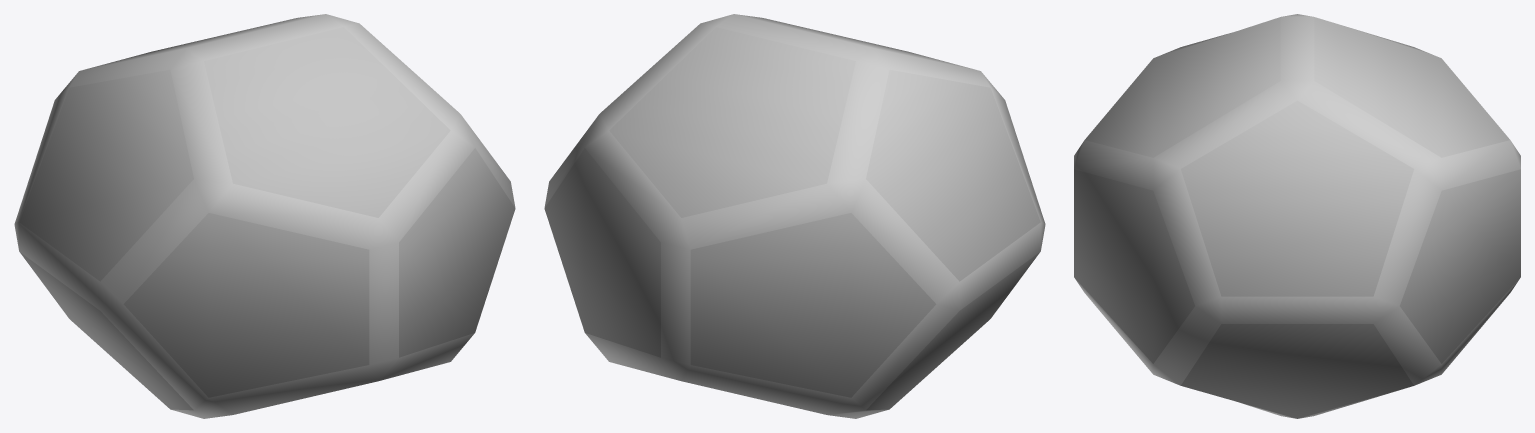
Rendered from stone_3.fbx.
3 views of the same model, side by side, from view 1: azimuth 30°, elevation 25°; view 2: azimuth 150°, elevation 25°; view 3: azimuth 270°, elevation 25° (orthographic). The views are drawn at different scales.
Visible parts, largest first — view 1: stone_3; view 2: stone_3; view 3: stone_3.
Part boxes in pixels (<box>): stone_3: <box>14,14,515,418</box>; stone_3: <box>544,14,1045,418</box>; stone_3: <box>1074,14,1520,418</box>.
Size of the model in its own units: 94.79 by 78.95 by 95.37.
1 material, 1 textured.
